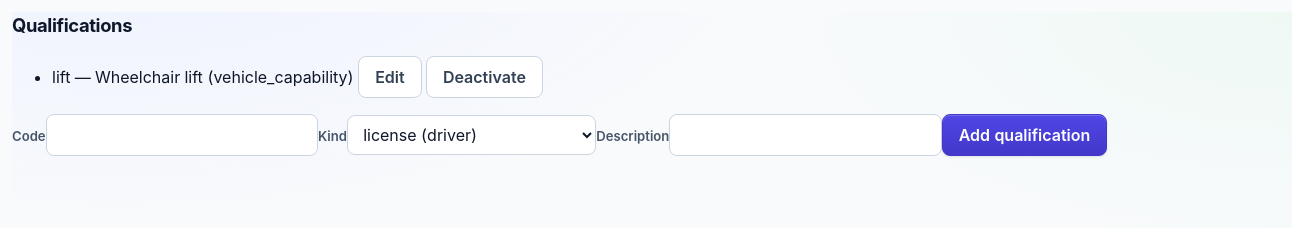
Test: QualificationsSection › shows an error when the update fails
Click the button "Edit" at (390, 77), box top-left (358, 56), bottom-right (422, 98)
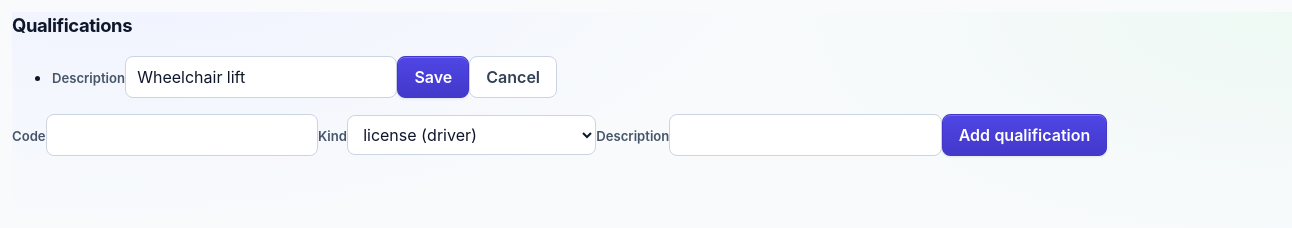
Click the button "Save" at (433, 77), box top-left (397, 56), bottom-right (469, 98)
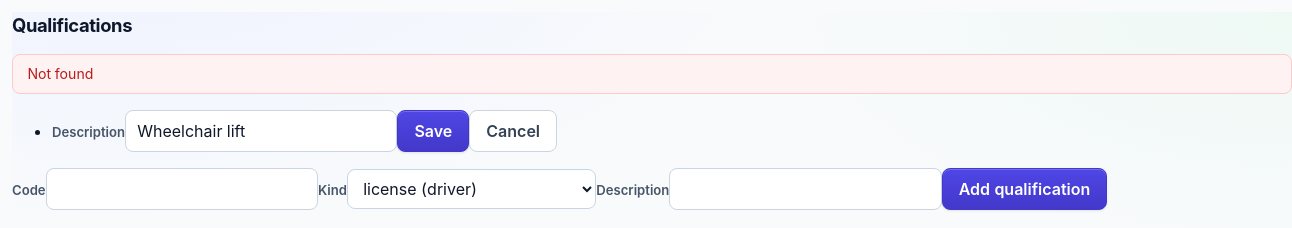
Expected: the message reads "Not found", top-left (27, 66), bottom-right (93, 82)
